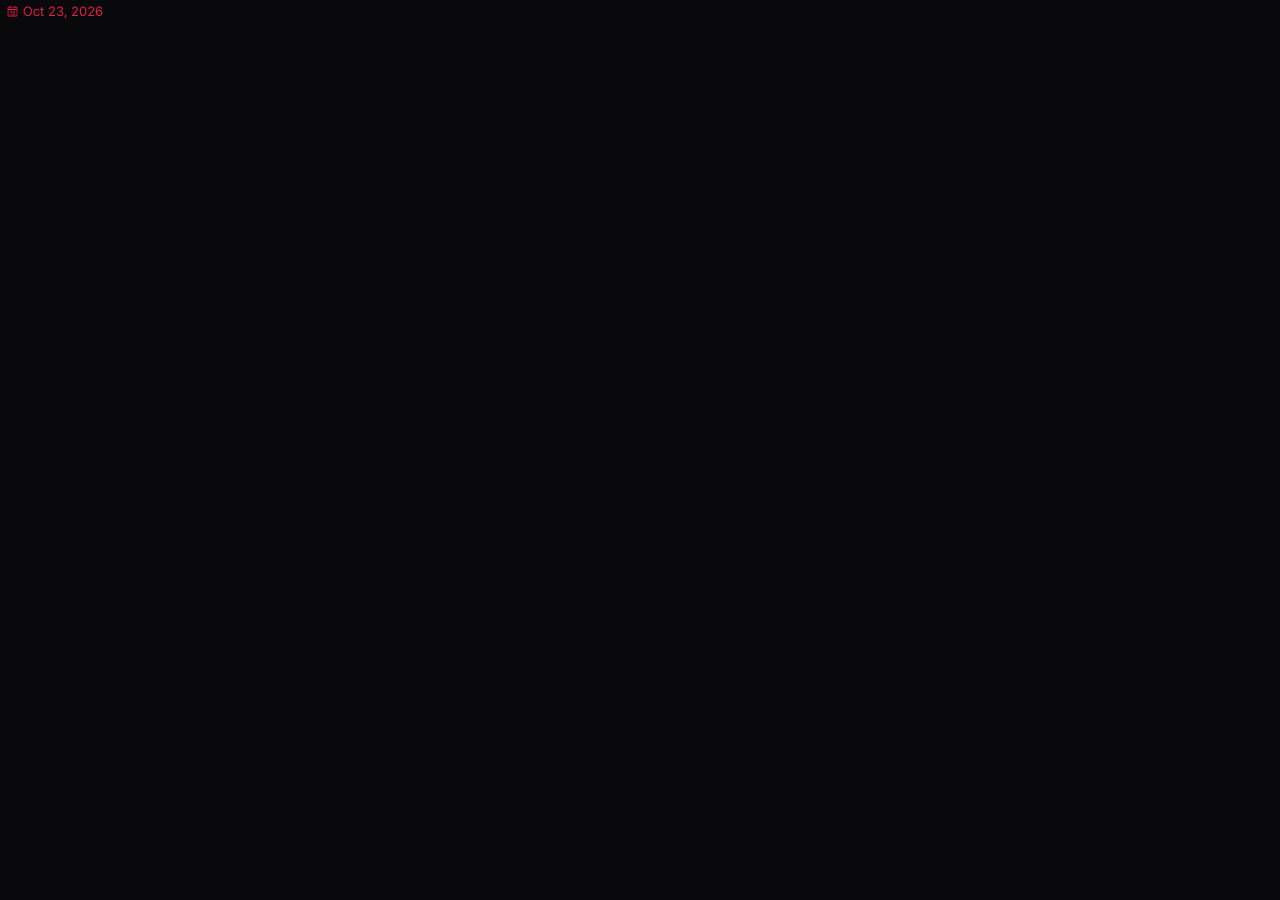
Test: TaskDateChip › test the date chip opens Today, Tomorrow, Next week, No date and a pick writes the date
Click the button with aria-label "Date: Oct 23, 2026" at (54, 12), box [0,0,109,23]
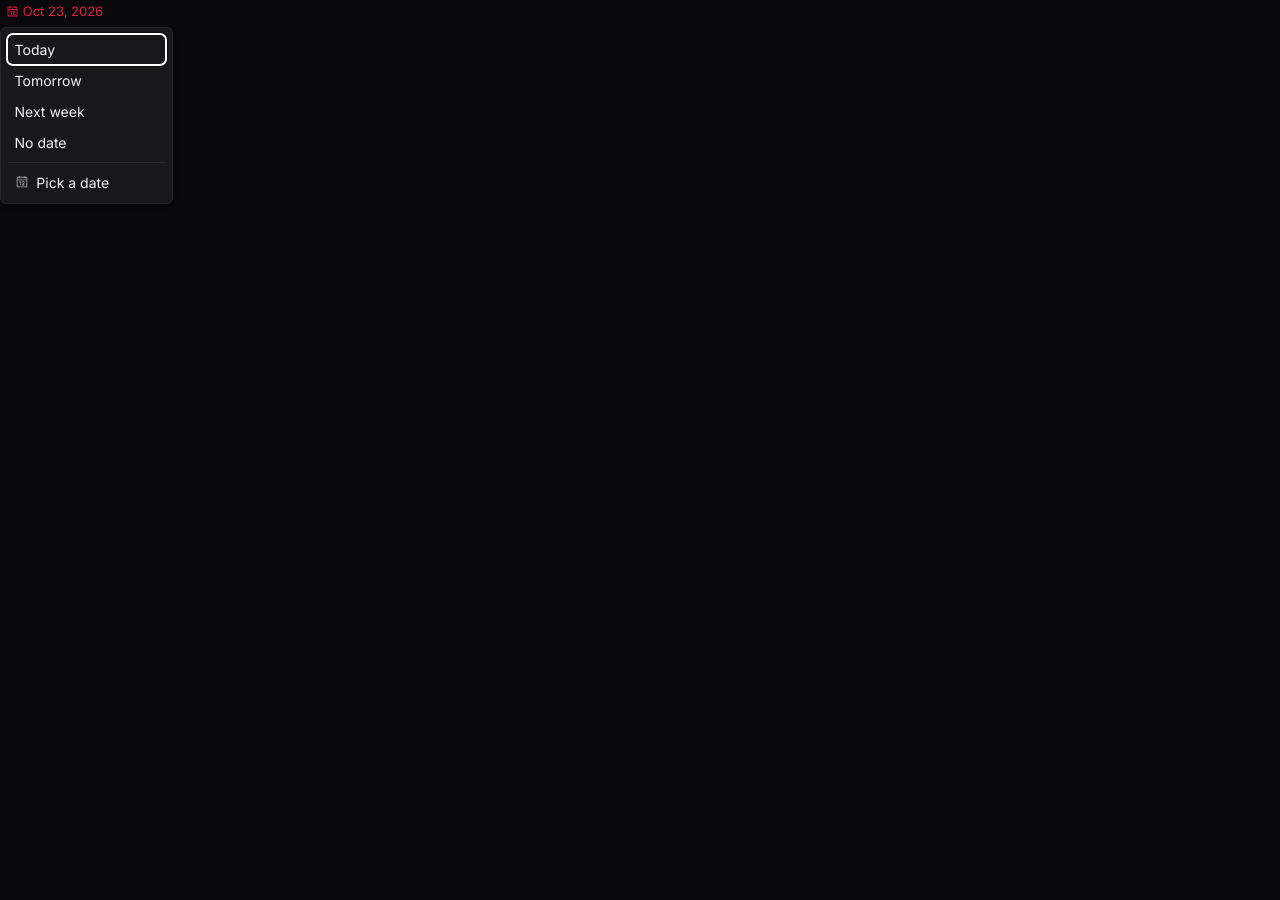
Expected: the menu items read "Today", "Tomorrow", "Next week", "No date", "Pick a date", in this order
Click the menu item "Tomorrow" at (86, 80), box [7,65,166,96]
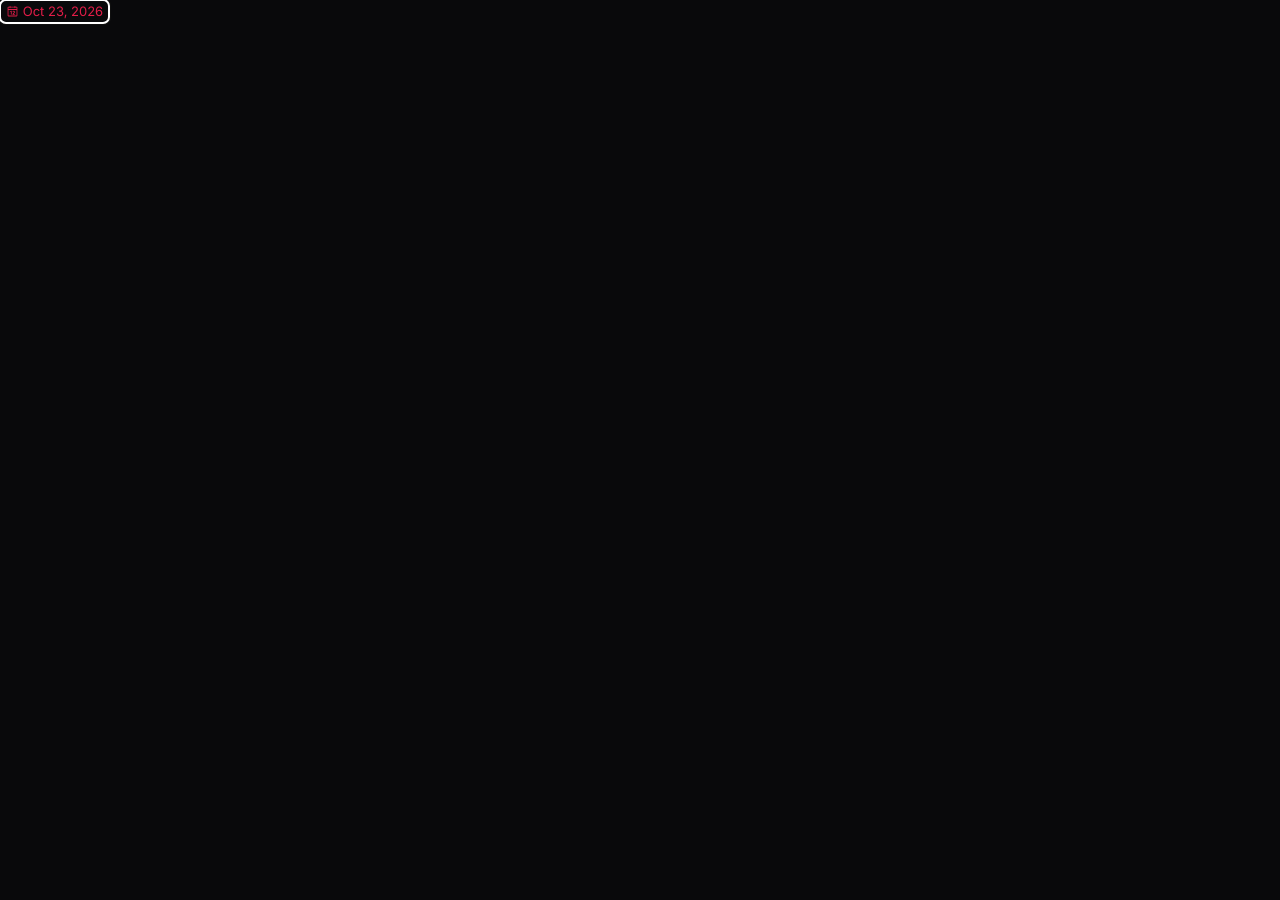
Expected: the menu item "date" is gone
